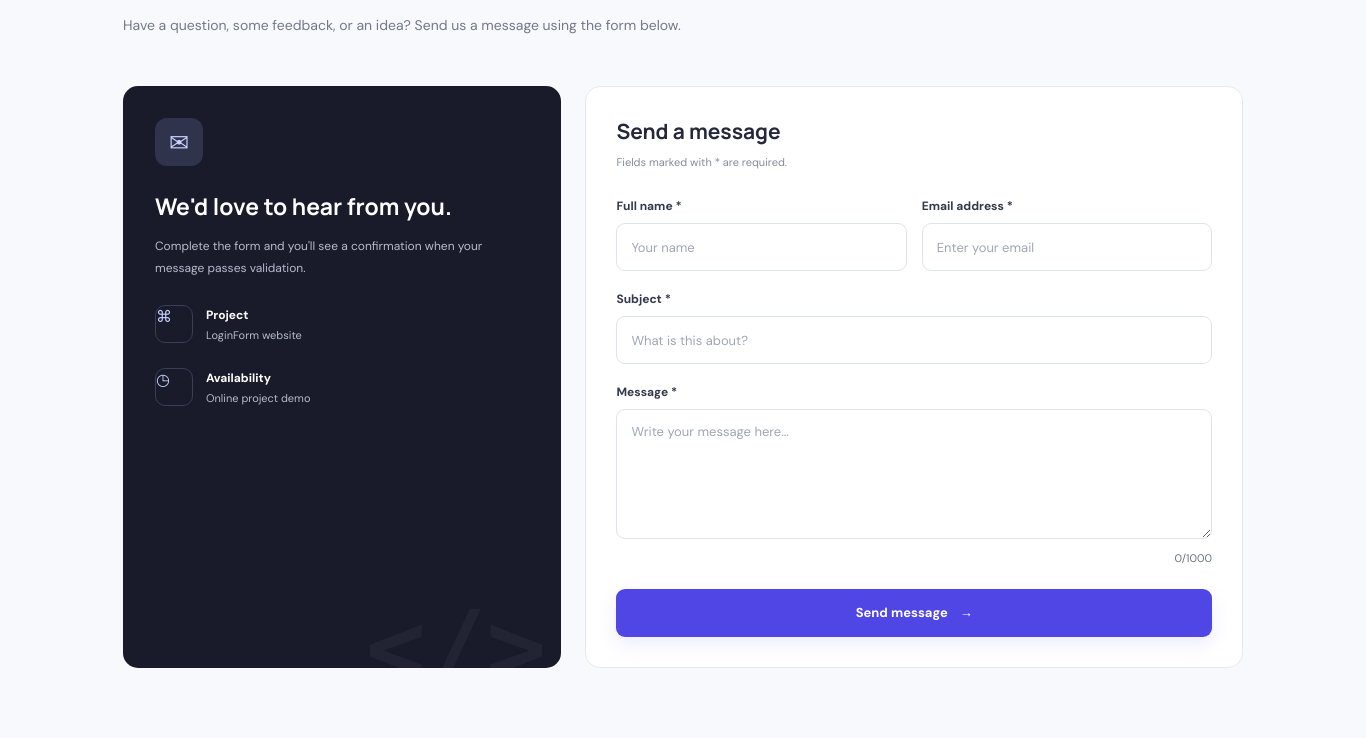
Contact page › updates the message character counter while typing
(page scrolled)
expect the element with id "contact-message-counter" reads "0/1000": met, box [1174,550,1260,565]
Type "Hello" into the text box labelled "Message *".
click(914, 474); type("Hello")  # box [616,409,1212,539]
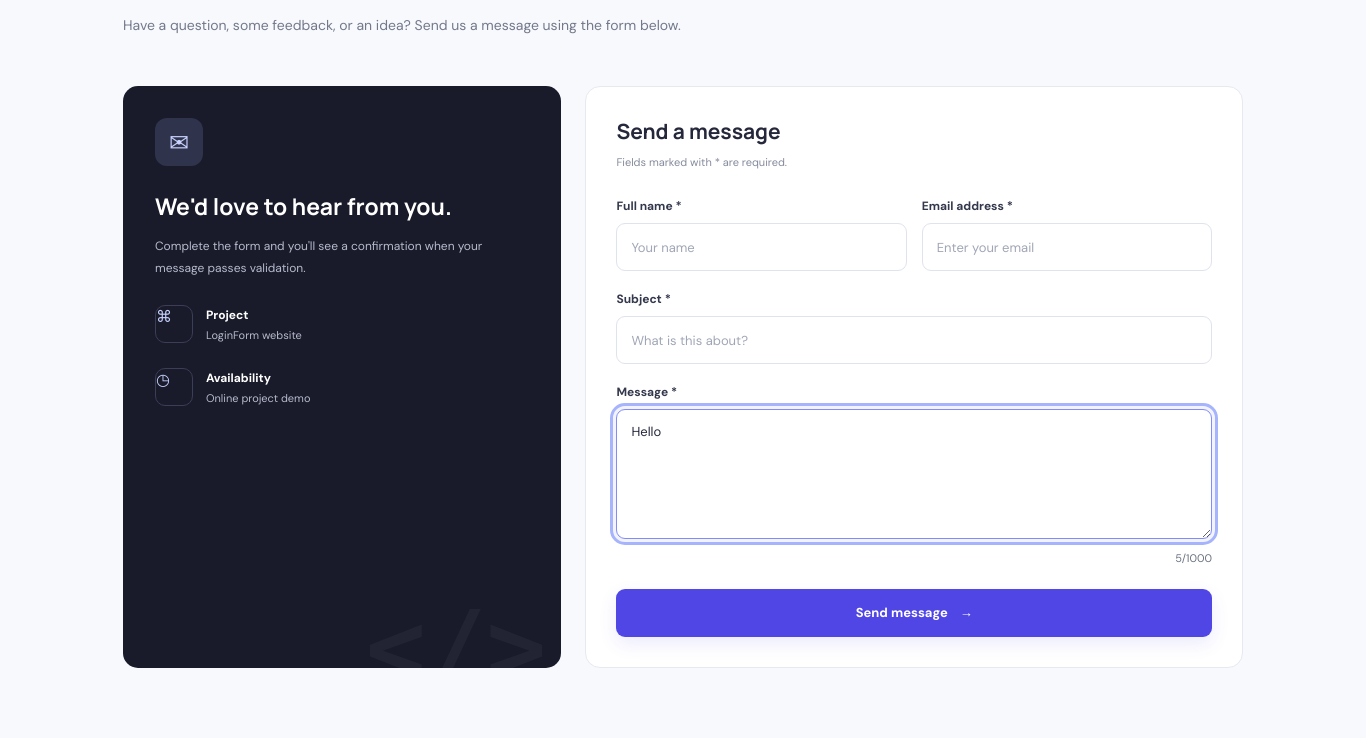
expect the element with id "contact-message-counter" reads "5/1000": met, box [1174,550,1261,565]
